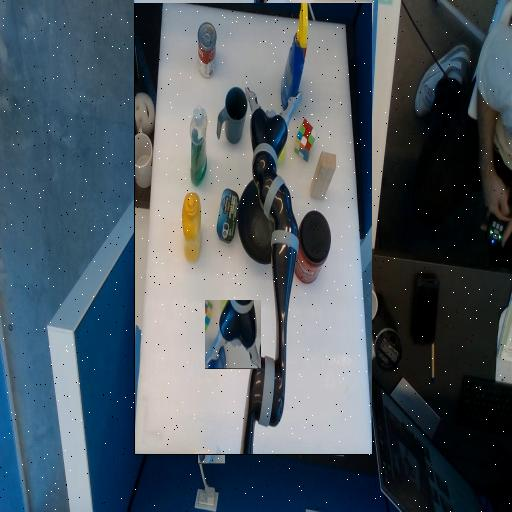bowl: (217, 210, 268, 262)
cleanser: (300, 271, 316, 351)
coffee_can: (176, 174, 214, 245)
jaco: (205, 300, 261, 369)
meat_can: (267, 229, 289, 251)
mug: (258, 326, 289, 356)
mustard_bottle: (306, 195, 324, 263)
rubik: (190, 305, 212, 327)
soup_can: (290, 397, 308, 415)
tennis_ball: (221, 294, 238, 324)
windex: (198, 345, 225, 463)
wooden_block: (171, 258, 195, 304)
workspace: (134, 3, 372, 454)
